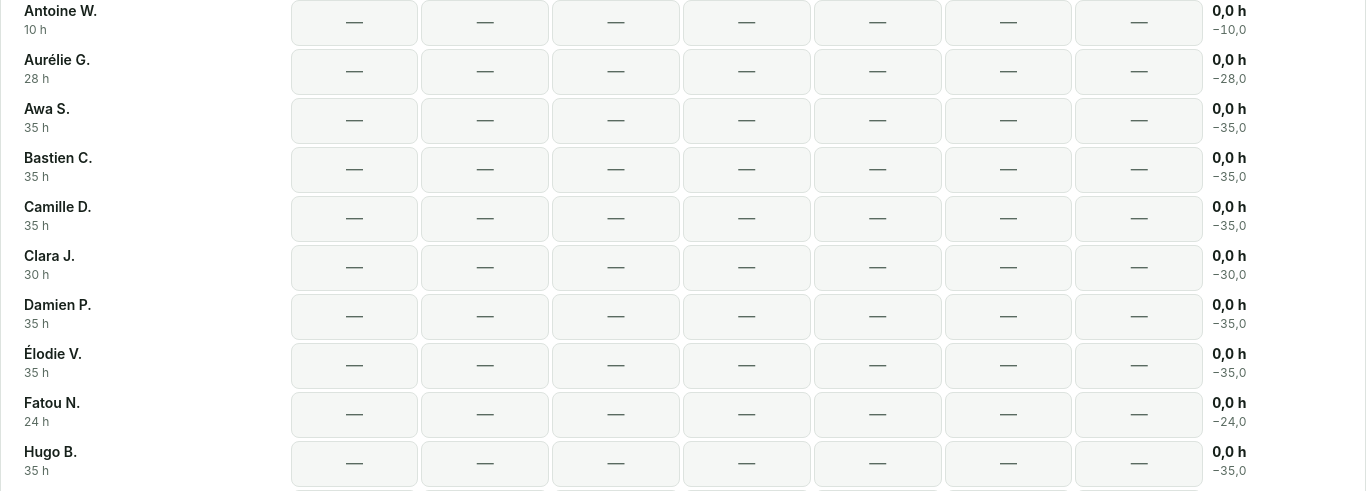
Test: contenu du dossier à présenter › montre le planning et les horaires
(page scrolled)
Click the button named "Camille D., lundi". click: [354, 219]
box: top-left (291, 196), bottom-right (418, 242)
(page scrolled)
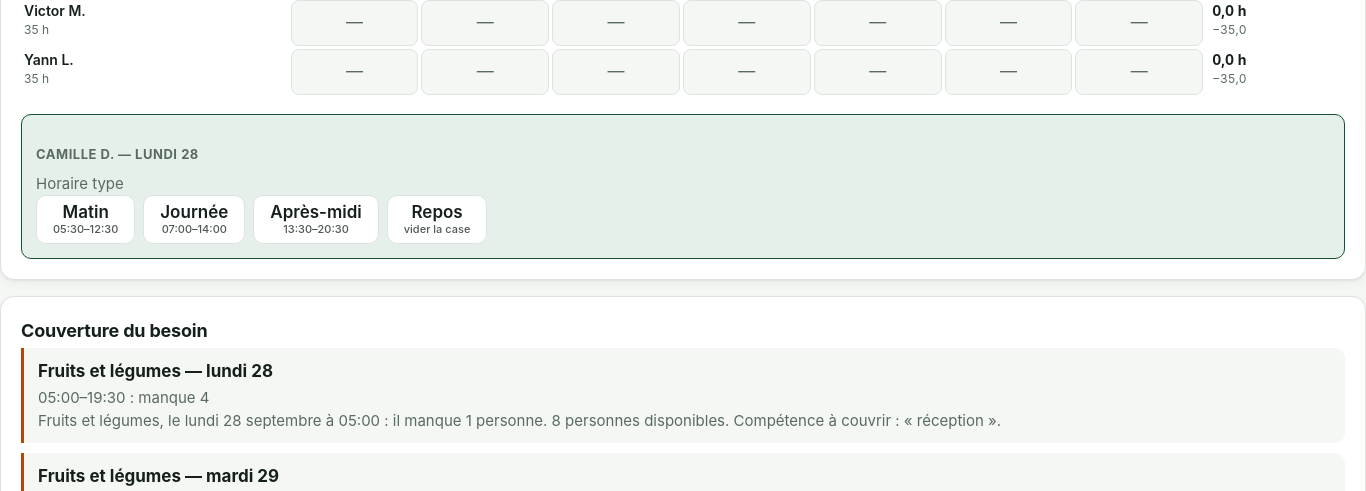
Click the button "Matin 05:30–12:30". click: [86, 219]
box: top-left (36, 195), bottom-right (135, 244)
(page scrolled)
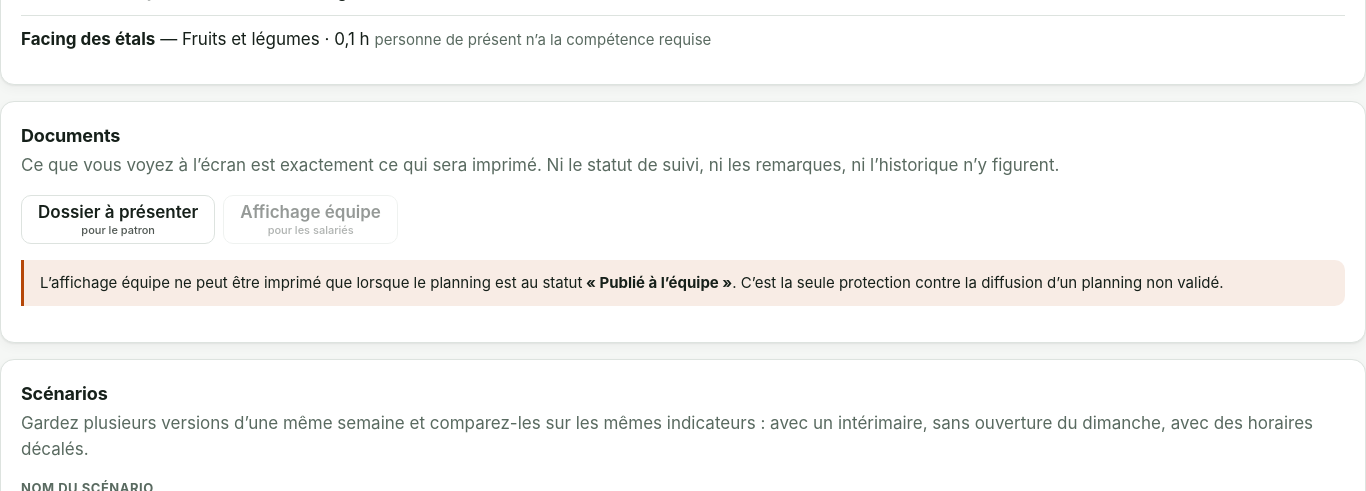
Click the button "Dossier à présenter pour le patron". click: [118, 220]
box: top-left (21, 195), bottom-right (215, 244)
(page scrolled)
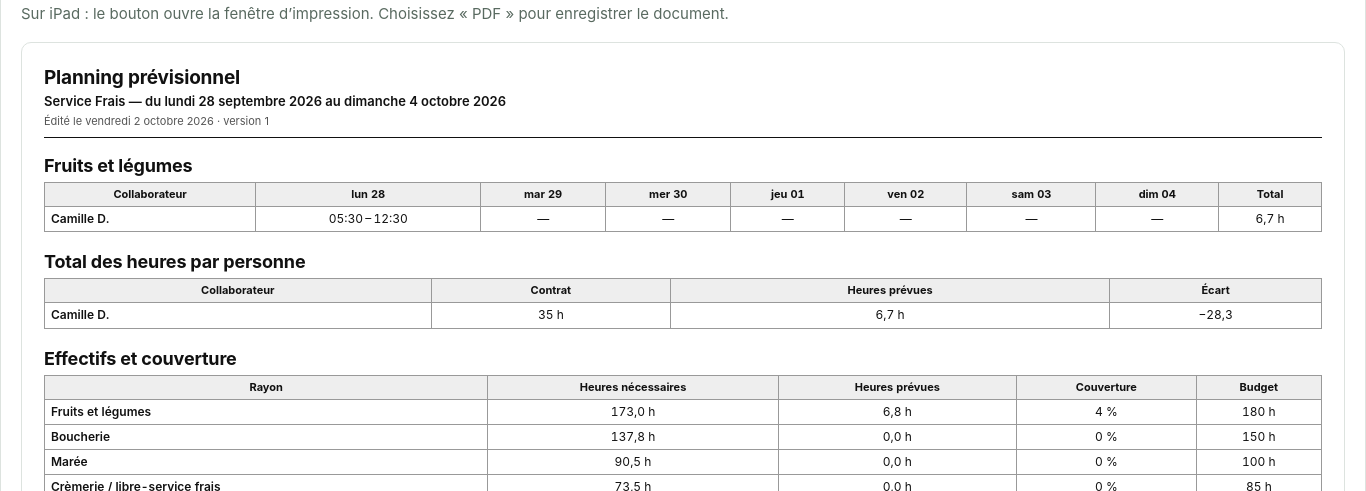
Check: the column heading "Camille D." next to "05:30 – 12:30" is shown, box top-left (51, 211), bottom-right (109, 226)
Check: the text "05:30 – 12:30" is shown, box top-left (256, 206), bottom-right (481, 232)
